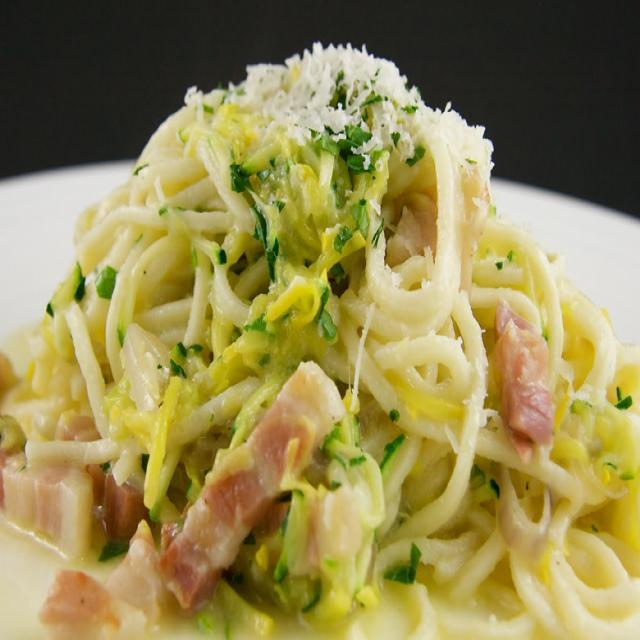Pasta with carbonara sauce: (50, 27, 570, 603)
